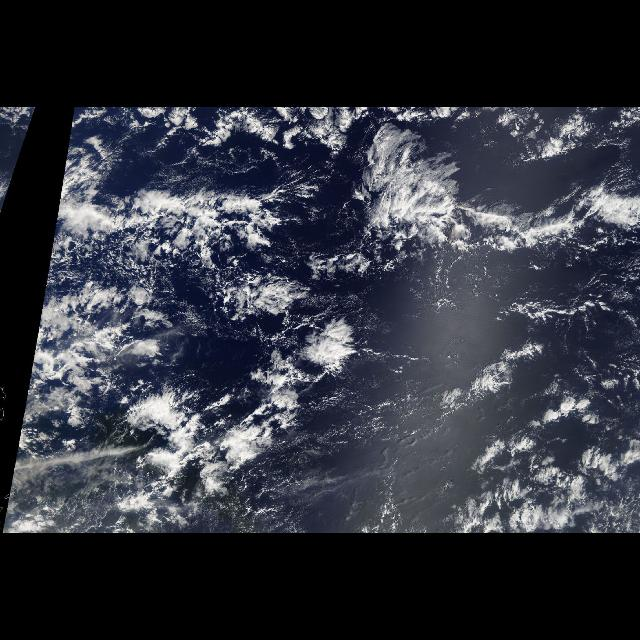Fish: (312, 133, 636, 304)
Sugar: (332, 305, 474, 517)
